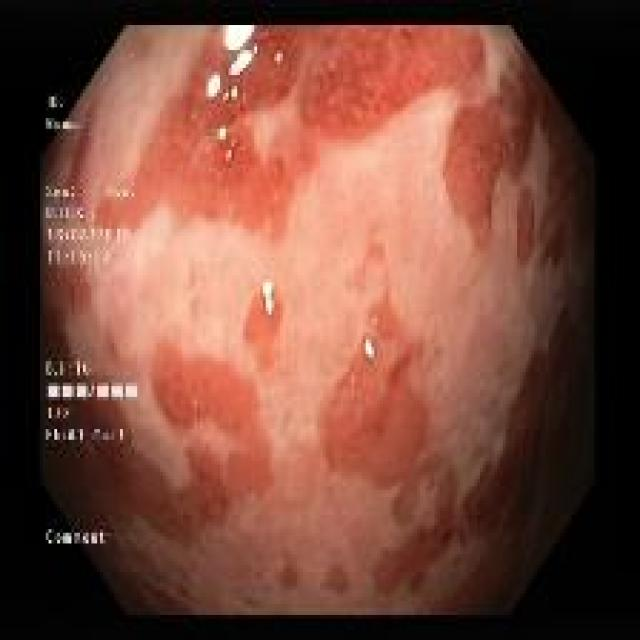ulcerative-colitis: (42, 27, 594, 614)
